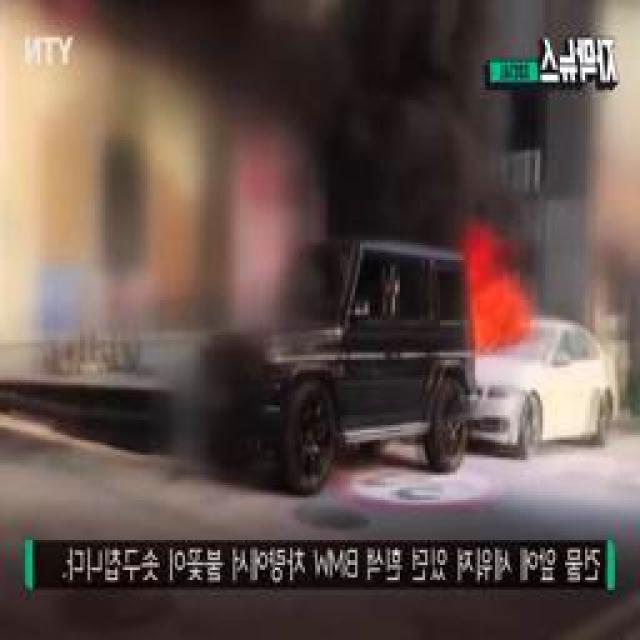Fire: (472, 284, 522, 350)
